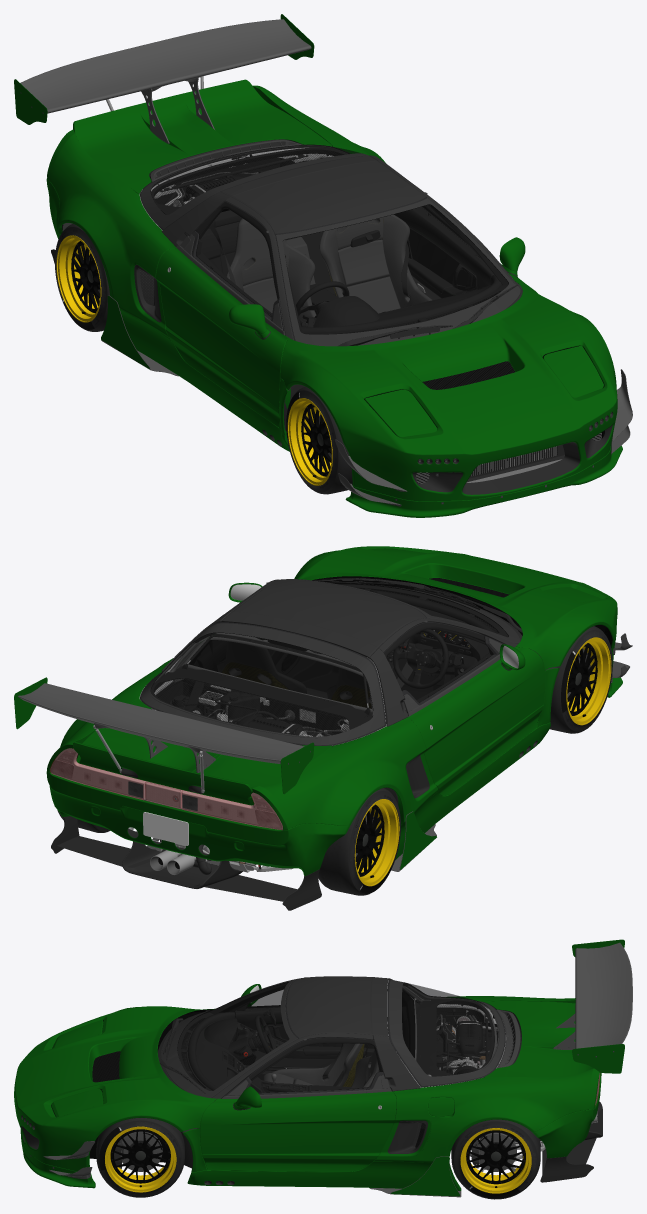
The model's file is AUX Ravento.glb.
3 renders of one model, top to bottom at view 1: azimuth 30°, elevation 25°; view 2: azimuth 150°, elevation 25°; view 3: azimuth 270°, elevation 25°, orthographic. The views are drawn at different scales.
Parts seen in each view (by area): view 1: RB:Hood2b_Paint_Geo_lodA_Hood2b_Paint_Geo_lodA_Honda_NSXTNR2, RB:Kit2_Window_Geo_lodA_Kit2_Window_Geo_lodA_Honda_NSXTNR2_1, RB:Wing2b_Paint_Geo_lodA_Wing2b_Paint_Geo_lodA_Honda_NSXTNR2, RB:Kit2_Coloured_Geo_lodA_Kit2_Coloured_Geo_lodA_Honda_NSXTN, RB:Interior_Geo_lodA_Interior_Geo_lodA_Honda_NSXTNR2_1992Int (×2), RB:Kit2_Paint_Geo_lodA_Kit2_Paint_Geo_lodA_Honda_NSXTNR2_199, RB:Wing2b_Coloured_Geo_lodA_Wing2b_Coloured_Geo_lodA_Honda_N, RB:Hood2b_Coloured_Geo_lodA_Hood2b_Coloured_Geo_lodA_Honda_N, RB:Engine_Geo_lodA_Engine_Geo_lodA_Honda_NSXTNR2_1992EngineA, RB:InteriorTillingColourZone_Geo_lodA_InteriorTillingColourZ, off1, off2 (+6 smaller); view 2: RB:Kit2_Window_Geo_lodA_Kit2_Window_Geo_lodA_Honda_NSXTNR2_1 (×3), RB:Kit2_Coloured_Geo_lodA_Kit2_Coloured_Geo_lodA_Honda_NSXTN, RB:Kit2_Paint_Geo_lodA_Kit2_Paint_Geo_lodA_Honda_NSXTNR2_199, RB:Wing2b_Paint_Geo_lodA_Wing2b_Paint_Geo_lodA_Honda_NSXTNR2, RB:Hood2b_Paint_Geo_lodA_Hood2b_Paint_Geo_lodA_Honda_NSXTNR2, RB:Engine_Geo_lodA_Engine_Geo_lodA_Honda_NSXTNR2_1992EngineA, RB:Interior_Geo_lodA_Interior_Geo_lodA_Honda_NSXTNR2_1992Int (×2), RB:Wing2b_Coloured_Geo_lodA_Wing2b_Coloured_Geo_lodA_Honda_N, RB:Kit2_Light_Geo_lodA_Kit2_Light_Geo_lodA_Honda_NSXTNR2_199, RB:GrilleAlpha6_Geo_lodA_GrilleAlpha6_Geo_lodA_Honda_NSXTNR2, off1, off2 (+7 smaller); view 3: RB:Kit2_Paint_Geo_lodA_Kit2_Paint_Geo_lodA_Honda_NSXTNR2_199, RB:Kit2_Window_Geo_lodA_Kit2_Window_Geo_lodA_Honda_NSXTNR2_1 (×2), RB:Kit2_Coloured_Geo_lodA_Kit2_Coloured_Geo_lodA_Honda_NSXTN, RB:Hood2b_Paint_Geo_lodA_Hood2b_Paint_Geo_lodA_Honda_NSXTNR2, RB:Wing2b_Paint_Geo_lodA_Wing2b_Paint_Geo_lodA_Honda_NSXTNR2, RB:Interior_Geo_lodA_Interior_Geo_lodA_Honda_NSXTNR2_1992Int (×2), RB:Engine_Geo_lodA_Engine_Geo_lodA_Honda_NSXTNR2_1992EngineA, RB:Wing2b_Coloured_Geo_lodA_Wing2b_Coloured_Geo_lodA_Honda_N, RB:GrilleAlpha6_Geo_lodA_GrilleAlpha6_Geo_lodA_Honda_NSXTNR2, off1, rim_Mesh:off1, polySurface642_rim:Honda_NSXLBWorksRewardRecycled_1992_Wheel (+8 smaller).
Part boxes in pixels (box(x1,y1,x2,y2)): RB:Hood2b_Paint_Geo_lodA_Hood2b_Paint_Geo_lodA_Honda_NSXTNR2: box(280, 282, 622, 517); RB:Kit2_Window_Geo_lodA_Kit2_Window_Geo_lodA_Honda_NSXTNR2_1: box(151, 145, 508, 334); RB:Wing2b_Paint_Geo_lodA_Wing2b_Paint_Geo_lodA_Honda_NSXTNR2: box(14, 14, 385, 338); RB:Kit2_Coloured_Geo_lodA_Kit2_Coloured_Geo_lodA_Honda_NSXTN: box(51, 139, 613, 483); RB:Interior_Geo_lodA_Interior_Geo_lodA_Honda_NSXTNR2_1992Int (×2): box(196, 202, 508, 334); RB:Kit2_Paint_Geo_lodA_Kit2_Paint_Geo_lodA_Honda_NSXTNR2_199: box(46, 86, 603, 451); RB:Wing2b_Coloured_Geo_lodA_Wing2b_Coloured_Geo_lodA_Honda_N: box(20, 19, 311, 143); RB:Hood2b_Coloured_Geo_lodA_Hood2b_Coloured_Geo_lodA_Honda_N: box(334, 361, 632, 506); RB:Engine_Geo_lodA_Engine_Geo_lodA_Honda_NSXTNR2_1992EngineA: box(139, 144, 348, 230); RB:InteriorTillingColourZone_Geo_lodA_InteriorTillingColourZ: box(242, 239, 400, 313); off1: box(287, 398, 332, 485); off2: box(56, 235, 101, 322); RB:Kit2_Window_Geo_lodA_Kit2_Window_Geo_lodA_Honda_NSXTNR2_1 (×3): box(50, 581, 508, 829); RB:Kit2_Coloured_Geo_lodA_Kit2_Coloured_Geo_lodA_Honda_NSXTN: box(51, 578, 557, 910); RB:Kit2_Paint_Geo_lodA_Kit2_Paint_Geo_lodA_Honda_NSXTNR2_199: box(46, 548, 601, 875); RB:Wing2b_Paint_Geo_lodA_Wing2b_Paint_Geo_lodA_Honda_NSXTNR2: box(14, 661, 438, 829); RB:Hood2b_Paint_Geo_lodA_Hood2b_Paint_Geo_lodA_Honda_NSXTNR2: box(294, 546, 622, 697); RB:Engine_Geo_lodA_Engine_Geo_lodA_Honda_NSXTNR2_1992EngineA: box(139, 632, 386, 745); RB:Interior_Geo_lodA_Interior_Geo_lodA_Honda_NSXTNR2_1992Int (×2): box(174, 584, 508, 716); RB:Wing2b_Coloured_Geo_lodA_Wing2b_Coloured_Geo_lodA_Honda_N: box(18, 683, 304, 793); RB:Kit2_Light_Geo_lodA_Kit2_Light_Geo_lodA_Honda_NSXTNR2_199: box(50, 748, 282, 830); RB:GrilleAlpha6_Geo_lodA_GrilleAlpha6_Geo_lodA_Honda_NSXTNR2: box(154, 678, 349, 736); off1: box(566, 637, 611, 725); off2: box(354, 799, 399, 886); RB:Kit2_Paint_Geo_lodA_Kit2_Paint_Geo_lodA_Honda_NSXTNR2_199: box(51, 984, 601, 1196); RB:Kit2_Window_Geo_lodA_Kit2_Window_Geo_lodA_Honda_NSXTNR2_1 (×2): box(23, 982, 497, 1127); RB:Kit2_Coloured_Geo_lodA_Kit2_Coloured_Geo_lodA_Honda_NSXTN: box(21, 976, 602, 1197); RB:Hood2b_Paint_Geo_lodA_Hood2b_Paint_Geo_lodA_Honda_NSXTNR2: box(14, 1006, 216, 1188); RB:Wing2b_Paint_Geo_lodA_Wing2b_Paint_Geo_lodA_Honda_NSXTNR2: box(374, 939, 624, 1162); RB:Interior_Geo_lodA_Interior_Geo_lodA_Honda_NSXTNR2_1992Int (×2): box(177, 982, 414, 1101); RB:Engine_Geo_lodA_Engine_Geo_lodA_Honda_NSXTNR2_1992EngineA: box(387, 980, 506, 1128); RB:Wing2b_Coloured_Geo_lodA_Wing2b_Coloured_Geo_lodA_Honda_N: box(553, 942, 632, 1049); RB:GrilleAlpha6_Geo_lodA_GrilleAlpha6_Geo_lodA_Honda_NSXTNR2: box(437, 1000, 491, 1074); off1: box(460, 1128, 531, 1193); rim_Mesh:off1: box(105, 1126, 176, 1192); polySurface642_rim:Honda_NSXLBWorksRewardRecycled_1992_Wheel: box(96, 1118, 184, 1197).
Size of the model in its own units: 0.02 by 0.0122 by 0.0444.
Materials: 32 (23 with a texture image).
